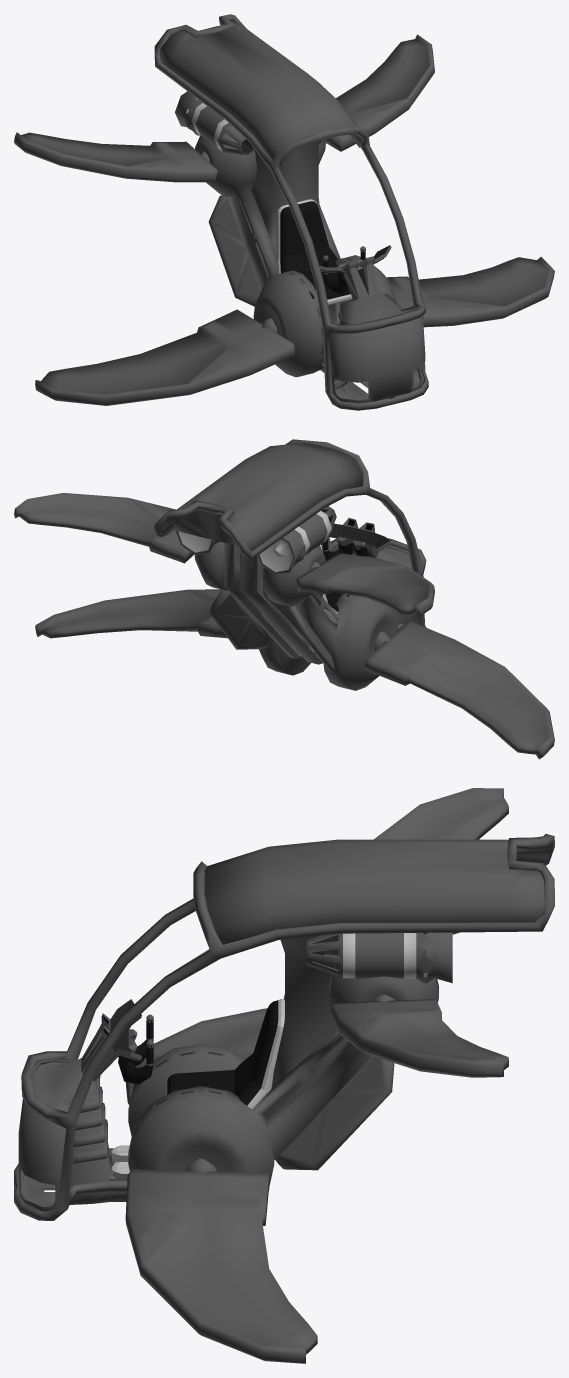
Rendered from Glider-360_A.dae.
3 renders of one model, top to bottom at view 1: azimuth 30°, elevation 25°; view 2: azimuth 150°, elevation 25°; view 3: azimuth 270°, elevation 25°, orthographic. The views are drawn at different scales.
Parts seen in each view (by area): view 1: Glider-360_A; view 2: Glider-360_A; view 3: Glider-360_A.
Boxes of the visible parts, x1,y1,x2,y2 form: Glider-360_A: (14,14,554,410); Glider-360_A: (14,439,554,759); Glider-360_A: (14,788,554,1363).
Bounding box in the file's own units: 13.79 × 9.14 × 6.56.
